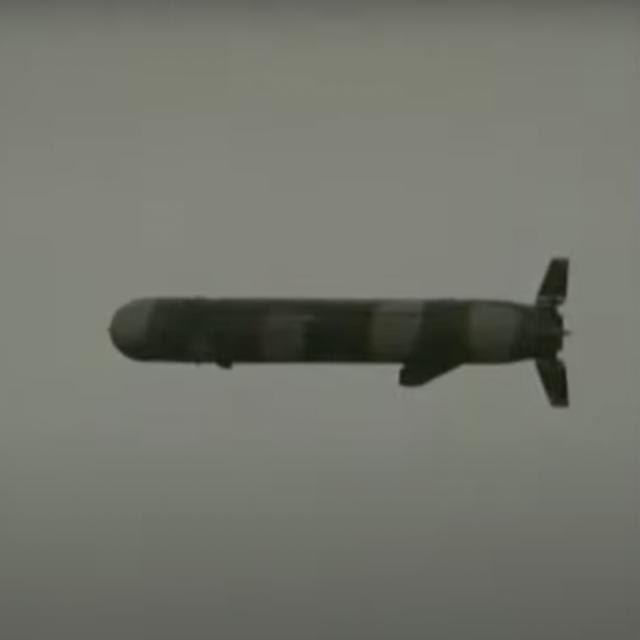Missile: (98, 242, 604, 422)
